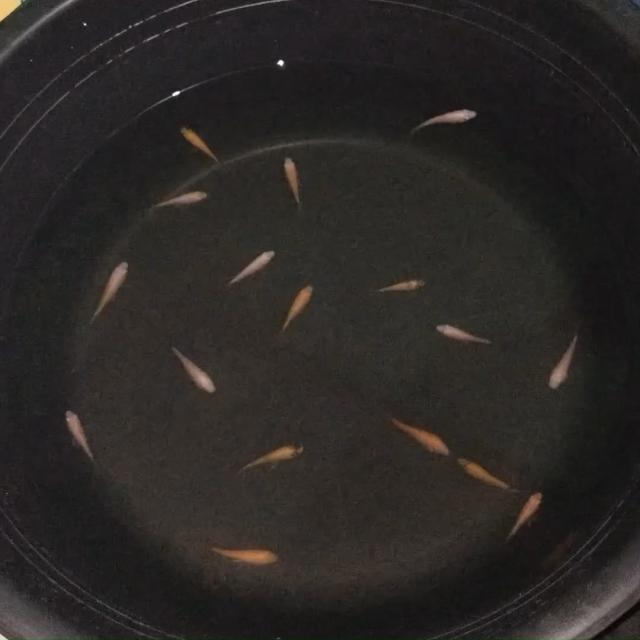nila: (83, 255, 132, 330), (383, 412, 454, 462), (228, 437, 310, 478), (168, 340, 217, 398), (62, 401, 101, 473), (218, 246, 278, 292), (457, 456, 521, 496), (404, 106, 479, 140), (502, 487, 544, 546), (545, 327, 582, 392), (205, 538, 282, 567), (276, 280, 314, 334), (434, 320, 502, 348), (180, 124, 224, 166), (149, 186, 212, 212), (284, 154, 308, 216), (371, 274, 430, 294)
